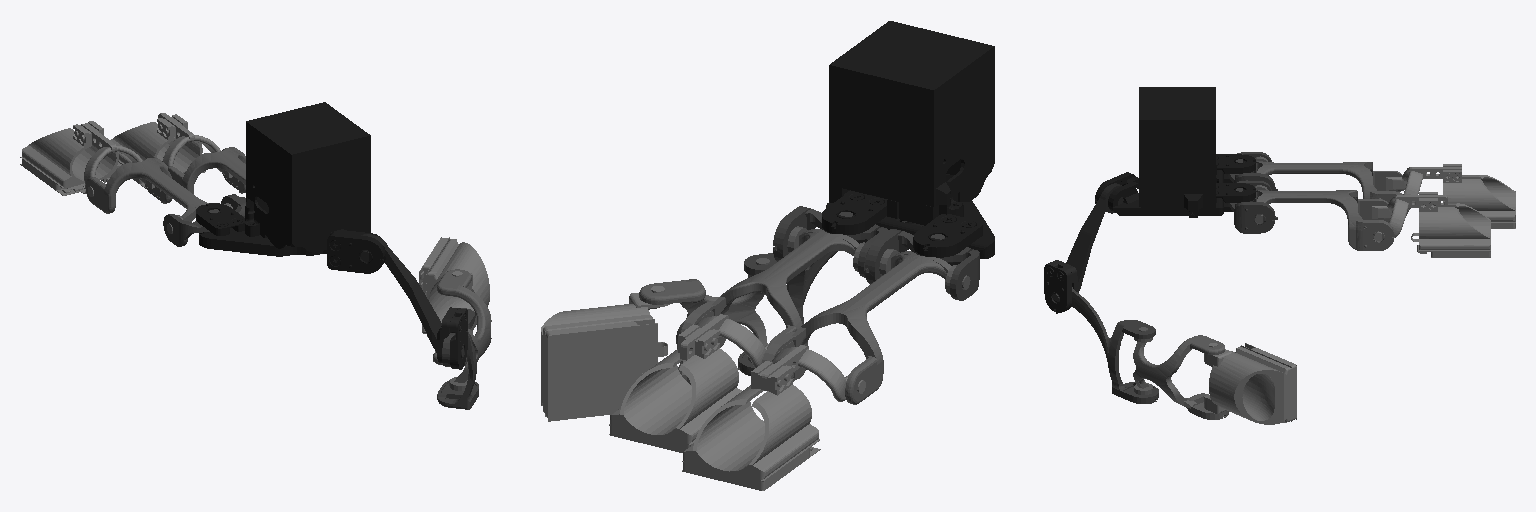
The robot description file, URDF, robot "maniesk":
<?xml version="1.0" encoding="utf-8"?>
<!-- This URDF was automatically created by SolidWorks to URDF Exporter! Originally created by Stephen Brawner (brawner@gmail.com) 
     Commit Version: 1.6.0-4-g7f85cfe  Build Version: 1.6.7995.38578
     For more information, please see http://wiki.ros.org/sw_urdf_exporter -->
<robot
  name="maniesk">
  <link
    name="base_link">
    <inertial>
      <origin
        xyz="-0.0016428 0.0022974 -0.014735"
        rpy="0 0 0" />
      <mass
        value="0.013695" />
      <inertia
        ixx="2.9361E-06"
        ixy="5.2729E-07"
        ixz="2.6717E-09"
        iyy="2.8841E-06"
        iyz="7.0634E-08"
        izz="3.9051E-06" />
    </inertial>
    <visual>
      <origin
        xyz="0 0 0"
        rpy="0 0 0" />
      <geometry>
        <mesh
          filename="package://maniesk/meshes/base_link.STL" />
      </geometry>
      <material
        name="">
        <color
          rgba="0.15 0.15 0.15 1" />
      </material>
    </visual>
    <collision>
      <origin
        xyz="0 0 0"
        rpy="0 0 0" />
      <geometry>
        <mesh
          filename="package://maniesk/meshes/base_link.STL" />
      </geometry>
    </collision>
  </link>
  <link
    name="link_11">
    <inertial>
      <origin
        xyz="-0.019438 0.020289 0.001734"
        rpy="0 0 0" />
      <mass
        value="0.0022347" />
      <inertia
        ixx="2.2926E-07"
        ixy="2.141E-07"
        ixz="-4.9254E-11"
        iyy="2.8451E-07"
        iyz="-1.5001E-10"
        izz="4.7751E-07" />
    </inertial>
    <visual>
      <origin
        xyz="0 0 0"
        rpy="0 0 0" />
      <geometry>
        <mesh
          filename="package://maniesk/meshes/link_11.STL" />
      </geometry>
      <material
        name="">
        <color
          rgba="0.2 0.2 0.2 1" />
      </material>
    </visual>
    <collision>
      <origin
        xyz="0 0 0"
        rpy="0 0 0" />
      <geometry>
        <mesh
          filename="package://maniesk/meshes/link_11.STL" />
      </geometry>
    </collision>
  </link>
  <joint
    name="j11"
    type="revolute">
    <origin
      xyz="0.0080804 -0.027606 -0.023"
      rpy="0 -1.5707963267948966 -2.356194490192345" />
    <parent
      link="base_link" />
    <child
      link="link_11" />
    <axis
      xyz="0 0 1" />
    <limit
      lower="-1.57"
      upper="1.57"
      effort="0"
      velocity="0" />
  </joint>
  <link
    name="link_12">
    <inertial>
      <origin
        xyz="0.0239347115479489 0.0153927042255716 0.00503368058218515"
        rpy="0 0 0" />
      <mass
        value="0.00172486845359109" />
      <inertia
        ixx="2.96568934534257E-07"
        ixy="-1.95167710457616E-07"
        ixz="-5.36509543954246E-08"
        iyy="3.59909020664556E-07"
        iyz="-3.09062123925736E-08"
        izz="6.06924505588211E-07" />
    </inertial>
    <visual>
      <origin
        xyz="0 0 0"
        rpy="0 0 0" />
      <geometry>
        <mesh
          filename="package://maniesk/meshes/link_12.STL" />
      </geometry>
      <material
        name="">
        <color
          rgba="0.3 0.3 0.3 1" />
      </material>
    </visual>
    <collision>
      <origin
        xyz="0 0 0"
        rpy="0 0 0" />
      <geometry>
        <mesh
          filename="package://maniesk/meshes/link_12.STL" />
      </geometry>
    </collision>
  </link>
  <joint
    name="j12"
    type="revolute">
    <origin
      xyz="-0.034337 0.0312 0.0017"
      rpy="-1.5708 -1.5708 3.1416" />
    <parent
      link="link_11" />
    <child
      link="link_12" />
    <axis
      xyz="0 0 1" />
    <limit
      lower="-1.57"
      upper="1.57"
      effort="0"
      velocity="0" />
  </joint>
  <link
    name="link_13">
    <inertial>
      <origin
        xyz="-0.00275598091844049 0.0171013082982554 0.0114897991653802"
        rpy="0 0 0" />
      <mass
        value="0.0021577823256147" />
      <inertia
        ixx="4.36819893192054E-07"
        ixy="7.96040455945356E-08"
        ixz="-1.70706905974494E-09"
        iyy="2.87788243442553E-07"
        iyz="1.13766383807387E-09"
        izz="3.00034675003969E-07" />
    </inertial>
    <visual>
      <origin
        xyz="0 0 0"
        rpy="0 0 0" />
      <geometry>
        <mesh
          filename="package://maniesk/meshes/link_13.STL" />
      </geometry>
      <material
        name="">
        <color
          rgba="0.41 0.41 0.41 1" />
      </material>
    </visual>
    <collision>
      <origin
        xyz="0 0 0"
        rpy="0 0 0" />
      <geometry>
        <mesh
          filename="package://maniesk/meshes/link_13.STL" />
      </geometry>
    </collision>
  </link>
  <joint
    name="j13"
    type="revolute">
    <origin
      xyz="0.04 0.0332 0.0087"
      rpy="1.5708 1.5708 0" />
    <parent
      link="link_12" />
    <child
      link="link_13" />
    <axis
      xyz="0 0 1" />
    <limit
      lower="-1.57"
      upper="1.57"
      effort="0"
      velocity="0" />
  </joint>
  <link
    name="link_14">
    <inertial>
      <origin
        xyz="-0.00528914239768588 0.0184953058372088 0.0131934817462545"
        rpy="0 0 0" />
      <mass
        value="0.00455016560118615" />
      <inertia
        ixx="7.32861894173576E-07"
        ixy="1.12234174723249E-07"
        ixz="1.41536594070198E-10"
        iyy="4.7993536137898E-07"
        iyz="-6.94763431402799E-10"
        izz="5.67831737014242E-07" />
    </inertial>
    <visual>
      <origin
        xyz="0 0 0"
        rpy="0 0 0" />
      <geometry>
        <mesh
          filename="package://maniesk/meshes/link_14.STL" />
      </geometry>
      <material
        name="">
        <color
          rgba="0.5 0.5 0.5 1" />
      </material>
    </visual>
    <collision>
      <origin
        xyz="0 0 0"
        rpy="0 0 0" />
      <geometry>
        <mesh
          filename="package://maniesk/meshes/link_14.STL" />
      </geometry>
    </collision>
  </link>
  <joint
    name="j14"
    type="revolute">
    <origin
      xyz="-0.0095575 0.0312 0"
      rpy="0 0 0" />
    <parent
      link="link_13" />
    <child
      link="link_14" />
    <axis
      xyz="0 0 1" />
    <limit
      lower="-1.57"
      upper="1.57"
      effort="0"
      velocity="0" />
  </joint>
  <link
    name="p1">
    <inertial>
      <origin
        xyz="-6.51825374557019E-06 -0.00200469416279114 -0.0096608576019578"
        rpy="0 0 0" />
      <mass
        value="0.00455016560118615" />
      <inertia
        ixx="5.67831737014242E-07"
        ixy="-6.94763431402808E-10"
        ixz="-1.41536594070238E-10"
        iyy="4.7993536137898E-07"
        iyz="-1.12234174723248E-07"
        izz="7.32861894173576E-07" />
    </inertial>
    <visual>
      <origin
        xyz="0 0 0"
        rpy="0 0 0" />
      <geometry>
        <mesh
          filename="package://maniesk/meshes/p1.dae" />
      </geometry>
      <material
        name="">
        <color
          rgba="0.5 0.5 0.5 1" />
      </material>
    </visual>
    <collision>
      <origin
        xyz="0 0 0"
        rpy="0 0 0" />
      <geometry>
        <mesh
          filename="package://maniesk/meshes/p1.dae" />
      </geometry>
    </collision>
  </link>
  <joint
    name="pj1"
    type="fixed">
    <origin
      xyz="-0.01495 0.0205 0.0132"
      rpy="0 -1.5708 0" />
    <parent
      link="link_14" />
    <child
      link="p1" />
    <axis
      xyz="0 0 0" />
  </joint>
  <link
    name="link_21">
    <inertial>
      <origin
        xyz="-0.00292555609180226 0.00333049704025466 0.00300313692306352"
        rpy="0 0 0" />
      <mass
        value="0.00111180928334376" />
      <inertia
        ixx="3.30194238642245E-08"
        ixy="-8.35318642205602E-10"
        ixz="5.55623141654561E-10"
        iyy="9.10482440625476E-08"
        iyz="-4.083996436177E-09"
        izz="1.0273967619007E-07" />
    </inertial>
    <visual>
      <origin
        xyz="0 0 0"
        rpy="0 0 0" />
      <geometry>
        <mesh
          filename="package://maniesk/meshes/link_21.STL" />
      </geometry>
      <material
        name="">
        <color
          rgba="0.3 0.3 0.3 1" />
      </material>
    </visual>
    <collision>
      <origin
        xyz="0 0 0"
        rpy="0 0 0" />
      <geometry>
        <mesh
          filename="package://maniesk/meshes/link_21.STL" />
      </geometry>
    </collision>
  </link>
  <joint
    name="j21"
    type="revolute">
    <origin
      xyz="0.005 0.026 -0.0238"
      rpy="-3.1416 0 3.1416" />
    <parent
      link="base_link" />
    <child
      link="link_21" />
    <axis
      xyz="0 0 1" />
    <limit
      lower="-1"
      upper="1"
      effort="0"
      velocity="0" />
  </joint>
  <link
    name="link_22">
    <inertial>
      <origin
        xyz="-0.00167183483203977 0.0289801523532643 0.00988583419271644"
        rpy="0 0 0" />
      <mass
        value="0.0023443539039227" />
      <inertia
        ixx="7.95922863072504E-07"
        ixy="1.16161787663554E-07"
        ixz="-1.14266665074892E-09"
        iyy="2.18170957112326E-07"
        iyz="6.2595115802451E-10"
        izz="7.09675987536078E-07" />
    </inertial>
    <visual>
      <origin
        xyz="0 0 0"
        rpy="0 0 0" />
      <geometry>
        <mesh
          filename="package://maniesk/meshes/link_22.STL" />
      </geometry>
      <material
        name="">
        <color
          rgba="0.41 0.41 0.41 1" />
      </material>
    </visual>
    <collision>
      <origin
        xyz="0 0 0"
        rpy="0 0 0" />
      <geometry>
        <mesh
          filename="package://maniesk/meshes/link_22.STL" />
      </geometry>
    </collision>
  </link>
  <joint
    name="j22"
    type="revolute">
    <origin
      xyz="-0.0112 0.008 0.0042"
      rpy="0 1.5708 0" />
    <parent
      link="link_21" />
    <child
      link="link_22" />
    <axis
      xyz="0 0 1" />
    <limit
      lower="-1"
      upper="1.57"
      effort="0"
      velocity="0" />
  </joint>
  <link
    name="link_23">
    <inertial>
      <origin
        xyz="-0.000406665427611556 0.0243163240387306 0.0109709678952181"
        rpy="0 0 0" />
      <mass
        value="0.00310590231929713" />
      <inertia
        ixx="3.77124429758911E-07"
        ixy="1.97240143667657E-08"
        ixz="5.83095805058068E-09"
        iyy="2.54660384426408E-07"
        iyz="8.35997570848633E-09"
        izz="2.56930722568691E-07" />
    </inertial>
    <visual>
      <origin
        xyz="0 0 0"
        rpy="0 0 0" />
      <geometry>
        <mesh
          filename="package://maniesk/meshes/link_23.STL" />
      </geometry>
      <material
        name="">
        <color
          rgba="0.5 0.5 0.5 1" />
      </material>
    </visual>
    <collision>
      <origin
        xyz="0 0 0"
        rpy="0 0 0" />
      <geometry>
        <mesh
          filename="package://maniesk/meshes/link_23.STL" />
      </geometry>
    </collision>
  </link>
  <joint
    name="j23"
    type="revolute">
    <origin
      xyz="-0.0080705 0.0492 0.0002"
      rpy="0 0 0" />
    <parent
      link="link_22" />
    <child
      link="link_23" />
    <axis
      xyz="0 0 1" />
    <limit
      lower="-1"
      upper="1.57"
      effort="0"
      velocity="0" />
  </joint>
  <link
    name="p2">
    <inertial>
      <origin
        xyz="-1.28989638840393E-05 -0.00316698285870197 -0.00752908298820648"
        rpy="0 0 0" />
      <mass
        value="0.00225545331820612" />
      <inertia
        ixx="2.15905577669202E-07"
        ixy="-3.6386869109807E-10"
        ixz="-4.67309852028347E-10"
        iyy="2.09790646145204E-07"
        iyz="-3.2274695274238E-08"
        izz="3.14640264745325E-07" />
    </inertial>
    <visual>
      <origin
        xyz="0 0 0"
        rpy="0 0 0" />
      <geometry>
        <mesh
          filename="package://maniesk/meshes/p1.dae" />
      </geometry>
      <material
        name="">
        <color
          rgba="0.5 0.5 0.5 1" />
      </material>
    </visual>
    <collision>
      <origin
        xyz="0 0 0"
        rpy="0 0 0" />
      <geometry>
        <mesh
          filename="package://maniesk/meshes/p1.dae" />
      </geometry>
    </collision>
  </link>
  <joint
    name="pj2"
    type="fixed">
    <origin
      xyz="-0.010158 0.033 0.011"
      rpy="0 -1.5708 0" />
    <parent
      link="link_23" />
    <child
      link="p2" />
    <axis
      xyz="0 0 0" />
  </joint>
  <link
    name="link_31">
    <inertial>
      <origin
        xyz="-0.00292555609180224 0.0033304970402547 0.00300313692306353"
        rpy="0 0 0" />
      <mass
        value="0.00111180928334376" />
      <inertia
        ixx="3.30194238642245E-08"
        ixy="-8.35318642205626E-10"
        ixz="5.55623141654597E-10"
        iyy="9.10482440625474E-08"
        iyz="-4.08399643617702E-09"
        izz="1.02739676190069E-07" />
    </inertial>
    <visual>
      <origin
        xyz="0 0 0"
        rpy="0 0 0" />
      <geometry>
        <mesh
          filename="package://maniesk/meshes/link_31.STL" />
      </geometry>
      <material
        name="">
        <color
          rgba="0.3 0.3 0.3 1" />
      </material>
    </visual>
    <collision>
      <origin
        xyz="0 0 0"
        rpy="0 0 0" />
      <geometry>
        <mesh
          filename="package://maniesk/meshes/link_31.STL" />
      </geometry>
    </collision>
  </link>
  <joint
    name="j31"
    type="revolute">
    <origin
      xyz="-0.023 0.026 -0.0238"
      rpy="3.1416 0 -3.1416" />
    <parent
      link="base_link" />
    <child
      link="link_31" />
    <axis
      xyz="0 0 1" />
    <limit
      lower="-1"
      upper="1"
      effort="0"
      velocity="0" />
  </joint>
  <link
    name="link_32">
    <inertial>
      <origin
        xyz="-0.00141507332656362 0.0324623732696431 0.00990227629547054"
        rpy="0 0 0" />
      <mass
        value="0.00243138055410106" />
      <inertia
        ixx="1.01380603156866E-06"
        ixy="1.31826058001882E-07"
        ixz="-1.69906134718062E-09"
        iyy="2.17796422212826E-07"
        iyz="2.55512699184065E-09"
        izz="9.29922192862985E-07" />
    </inertial>
    <visual>
      <origin
        xyz="0 0 0"
        rpy="0 0 0" />
      <geometry>
        <mesh
          filename="package://maniesk/meshes/link_32.STL" />
      </geometry>
      <material
        name="">
        <color
          rgba="0.41 0.41 0.41 1" />
      </material>
    </visual>
    <collision>
      <origin
        xyz="0 0 0"
        rpy="0 0 0" />
      <geometry>
        <mesh
          filename="package://maniesk/meshes/link_32.STL" />
      </geometry>
    </collision>
  </link>
  <joint
    name="j32"
    type="revolute">
    <origin
      xyz="-0.0112 0.008 0.0042"
      rpy="0 1.5708 0" />
    <parent
      link="link_31" />
    <child
      link="link_32" />
    <axis
      xyz="0 0 1" />
    <limit
      lower="-1"
      upper="1.57"
      effort="0"
      velocity="0" />
  </joint>
  <link
    name="link_33">
    <inertial>
      <origin
        xyz="-0.000406667403246387 0.027372931109677 0.0109709543907002"
        rpy="0 0 0" />
      <mass
        value="0.00310589860633906" />
      <inertia
        ixx="3.7712440525904E-07"
        ixy="1.97240181648555E-08"
        ixz="5.83095272718181E-09"
        iyy="2.54660293337739E-07"
        iyz="8.36000704233207E-09"
        izz="2.5693062738961E-07" />
    </inertial>
    <visual>
      <origin
        xyz="0 0 0"
        rpy="0 0 0" />
      <geometry>
        <mesh
          filename="package://maniesk/meshes/link_33.STL" />
      </geometry>
      <material
        name="">
        <color
          rgba="0.5 0.5 0.5 1" />
      </material>
    </visual>
    <collision>
      <origin
        xyz="0 0 0"
        rpy="0 0 0" />
      <geometry>
        <mesh
          filename="package://maniesk/meshes/link_33.STL" />
      </geometry>
    </collision>
  </link>
  <joint
    name="j33"
    type="revolute">
    <origin
      xyz="-0.0080581 0.0552 0.0002"
      rpy="0 0 0" />
    <parent
      link="link_32" />
    <child
      link="link_33" />
    <axis
      xyz="0 0 1" />
    <limit
      lower="-1"
      upper="1.57"
      effort="0"
      velocity="0" />
  </joint>
  <link
    name="p3">
    <inertial>
      <origin
        xyz="-1.28989638839144E-05 -0.00316698285870201 -0.00752908298820647"
        rpy="0 0 0" />
      <mass
        value="0.00225545331820612" />
      <inertia
        ixx="2.15905577669201E-07"
        ixy="-3.63868691100186E-10"
        ixz="-4.67309852025555E-10"
        iyy="2.09790646145203E-07"
        iyz="-3.22746952742381E-08"
        izz="3.14640264745323E-07" />
    </inertial>
    <visual>
      <origin
        xyz="0 0 0"
        rpy="0 0 0" />
      <geometry>
        <mesh
          filename="package://maniesk/meshes/p1.dae" />
      </geometry>
      <material
        name="">
        <color
          rgba="0.5 0.5 0.5 1" />
      </material>
    </visual>
    <collision>
      <origin
        xyz="0 0 0"
        rpy="0 0 0" />
      <geometry>
        <mesh
          filename="package://maniesk/meshes/p1.dae" />
      </geometry>
    </collision>
  </link>
  <joint
    name="pj3"
    type="fixed">
    <origin
      xyz="-0.0101582039324994 0.037 0.011"
      rpy="0 -1.5708 0" />
    <parent
      link="link_33" />
    <child
      link="p3" />
    <axis
      xyz="0 0 0" />
  </joint>
</robot>

--- What the picture shows (computed from the rendered views, not written in the file) ---
Views: 3 orthographic renders of the robot side by side, from view 1: azimuth 30°, elevation 25°; view 2: azimuth 150°, elevation 25°; view 3: azimuth 270°, elevation 25°.
Model maniesk with 14 links and 13 joints (10 revolute, 3 fixed), rooted at base_link, posed every joint at zero.
Links seen in each view (by area): view 1: base_link, link_33, link_23, link_11, link_32, link_14, link_13, link_22, link_12, link_31, p3, p1; view 2: base_link, link_33, link_23, p1, link_32, link_22, link_13, link_31, link_14, link_21, link_12, p3 (+1 smaller); view 3: base_link, link_14, link_23, link_33, link_22, link_13, link_11, link_12, link_32, link_21, p2, link_31 (+1 smaller).
Boxes of the visible links, left/top/right/bottom form: base_link: left=196, top=102, right=385, bottom=273; link_33: left=22, top=121, right=154, bottom=196; link_23: left=110, top=113, right=232, bottom=177; link_11: left=360, top=234, right=467, bottom=369; link_32: left=85, top=157, right=232, bottom=233; link_14: left=427, top=239, right=489, bottom=332; link_13: left=433, top=269, right=491, bottom=390; link_22: left=168, top=147, right=245, bottom=193; link_12: left=437, top=308, right=478, bottom=409; link_31: left=163, top=194, right=245, bottom=246; p3: left=20, top=157, right=109, bottom=195; p1: left=419, top=237, right=449, bottom=336; base_link: left=822, top=21, right=994, bottom=265; link_33: left=683, top=345, right=865, bottom=479; link_23: left=610, top=314, right=768, bottom=443; p1: left=545, top=319, right=667, bottom=421; link_32: left=761, top=249, right=970, bottom=404; link_22: left=681, top=226, right=864, bottom=348; link_13: left=639, top=258, right=769, bottom=384; link_31: left=865, top=229, right=979, bottom=300; link_14: left=541, top=286, right=669, bottom=412; link_21: left=773, top=206, right=887, bottom=277; link_12: left=738, top=221, right=906, bottom=375; p3: left=682, top=439, right=820, bottom=490; base_link: left=1095, top=87, right=1257, bottom=217; link_14: left=1204, top=343, right=1291, bottom=424; link_23: left=1372, top=192, right=1490, bottom=249; link_33: left=1386, top=164, right=1515, bottom=221; link_22: left=1255, top=185, right=1396, bottom=250; link_13: left=1133, top=327, right=1228, bottom=419; link_11: left=1044, top=183, right=1123, bottom=313; link_12: left=1052, top=287, right=1158, bottom=403; link_32: left=1255, top=156, right=1410, bottom=222; link_21: left=1226, top=181, right=1277, bottom=233; p2: left=1411, top=233, right=1490, bottom=257; link_31: left=1226, top=152, right=1277, bottom=190.
Bounding box of the posed robot: 0.1241 × 0.1947 × 0.1099 m (x, y, z).
Meshes: 12 distinct files referenced, 14 mesh visuals loaded (11 binary STL, 1 Collada DAE).
